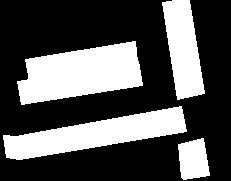parkingspot: (3, 106, 186, 159), (17, 61, 142, 104), (25, 41, 137, 81), (162, 0, 204, 99), (178, 138, 209, 179)
